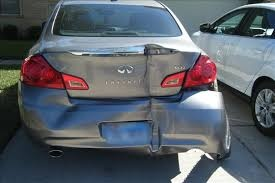Dent: (140, 43, 171, 154), (35, 90, 82, 132), (179, 76, 226, 114)
